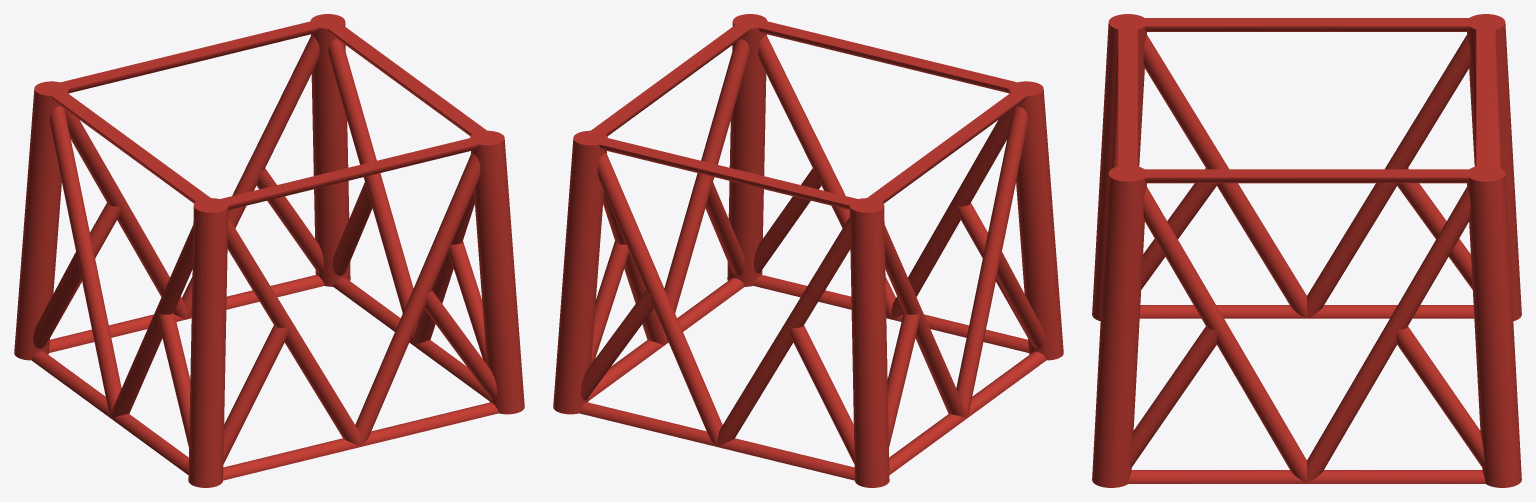
3 renders of one model, left to right at view 1: azimuth 30°, elevation 25°; view 2: azimuth 150°, elevation 25°; view 3: azimuth 270°, elevation 25°, orthographic. The views are drawn at different scales.
Parts seen in each view (by area): view 1: H20-H21; view 2: H20-H21; view 3: H20-H21.
Boxes of the visible parts, x1,y1,x2,y2 form: H20-H21: (14, 14, 524, 487); H20-H21: (553, 14, 1063, 487); H20-H21: (1092, 14, 1521, 487).
Bounding box in the file's own units: 11.06 × 8.5 × 11.06.
